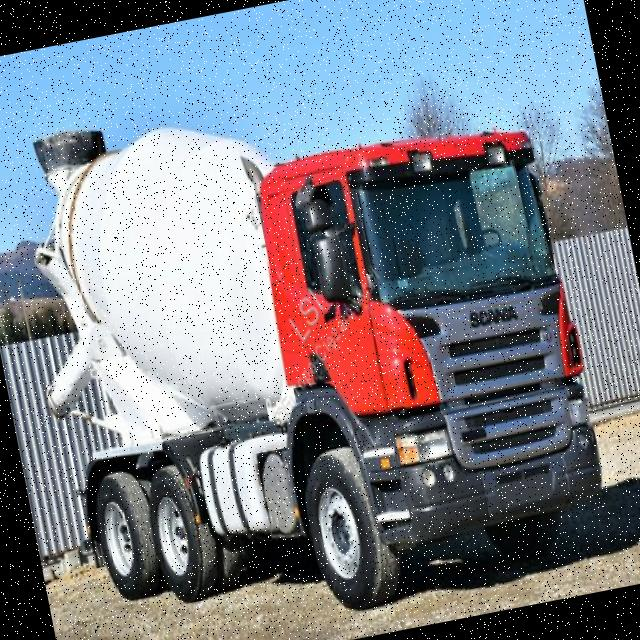Mixer Truck: (0, 43, 621, 640)
